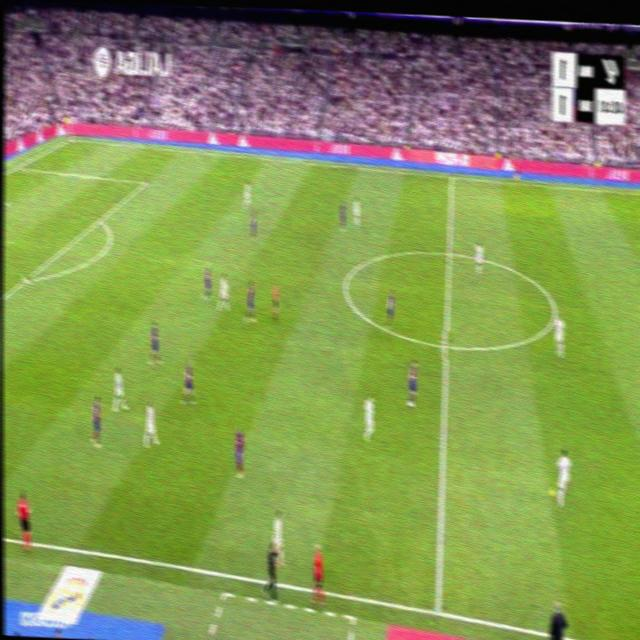bigarea_top_inner: (141, 174, 149, 189)
bigarea_top_outter: (13, 159, 21, 171)
bottom_arc_area_intersection: (21, 271, 31, 286)
corner: (65, 132, 76, 142)
halfcircle_bottom: (439, 330, 452, 358)
halfcircle_top: (443, 239, 456, 263)
midline_bottom_intersection: (428, 592, 447, 626)
midline_top_intersection: (447, 169, 456, 183)
smallarea_top_inner: (3, 196, 10, 207)
top_arc_area_intersection: (96, 211, 104, 225)
